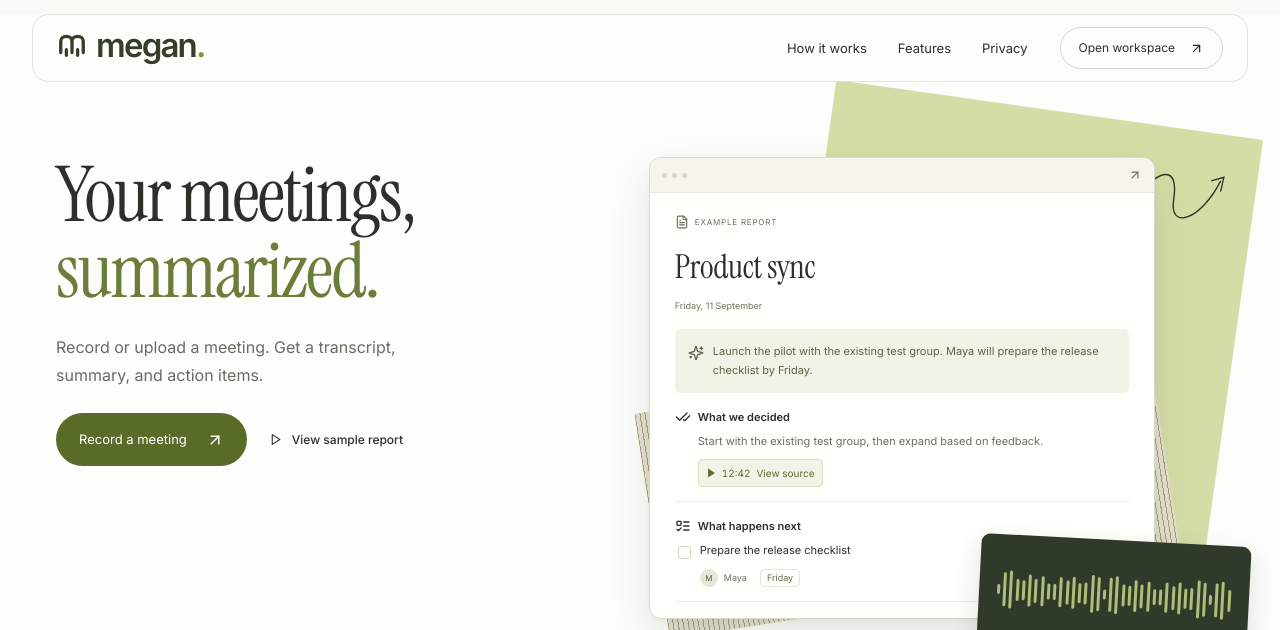
it: the landing recorder opens immediately while health and history are still pending
Click the link "Record a meeting": {"x": 151, "y": 440} [56,413,247,466]
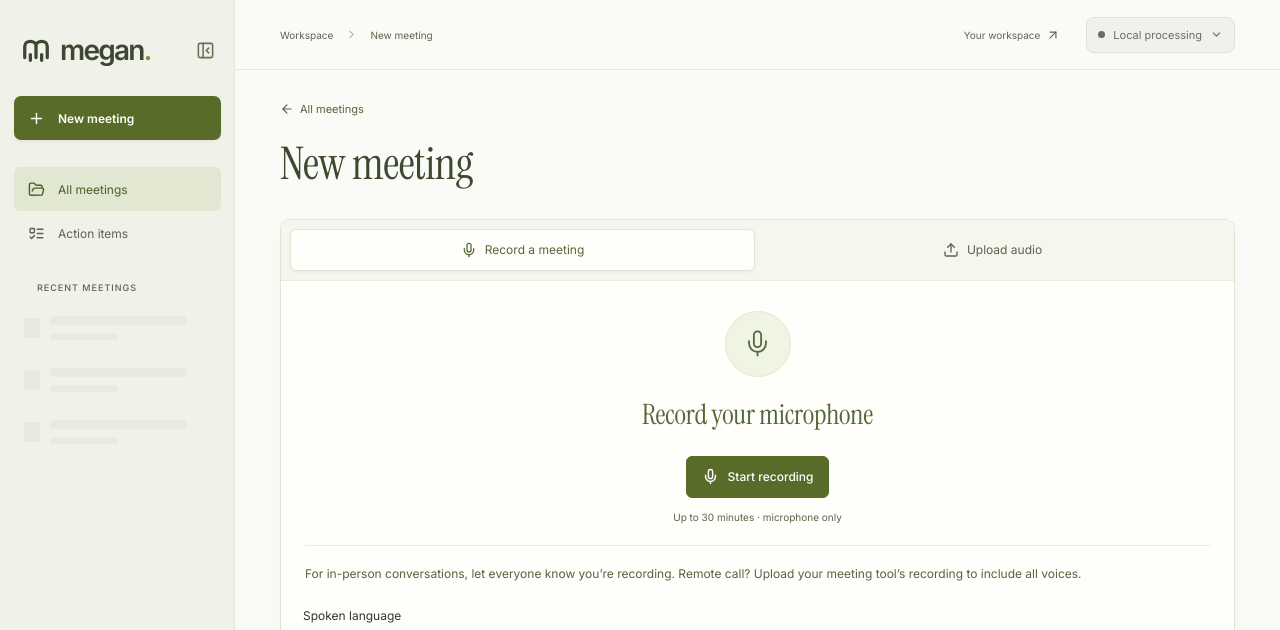
Result: the heading "New meeting" is shown at [280,134,473,193]
Result: the button "Start recording" is enabled at [686,456,830,498]
